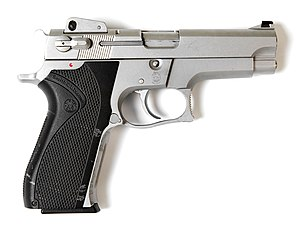Arma Real: (17, 17, 287, 214)
